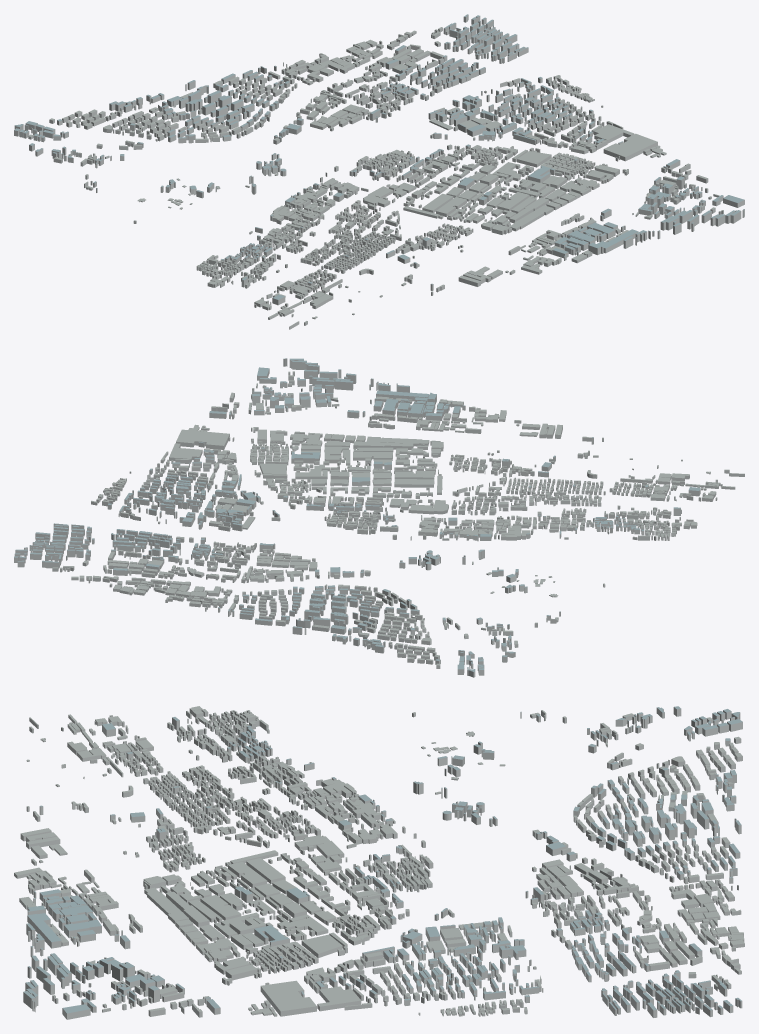
Rendered from far.glb.
3 renders of one model, top to bottom at view 1: azimuth 30°, elevation 25°; view 2: azimuth 150°, elevation 25°; view 3: azimuth 270°, elevation 25°, orthographic. The views are drawn at different scales.
Bounding box in the file's own units: 2151 × 39.79 × 2146.
